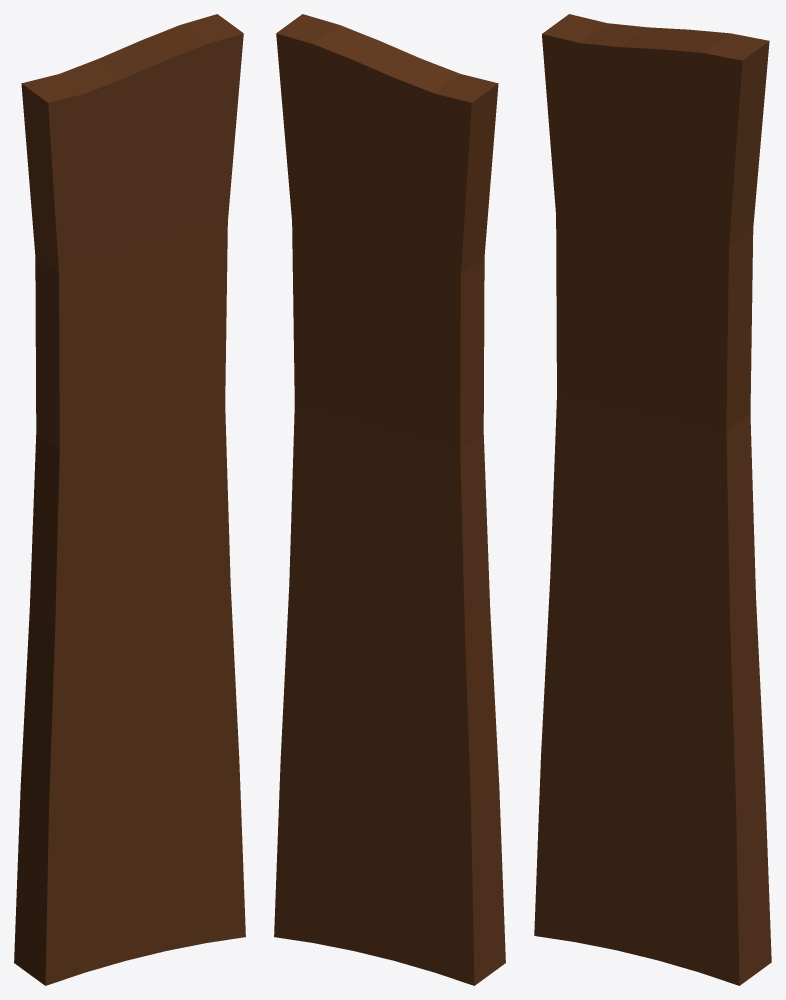
File: Plank2.fbx
3 renders of one model, left to right at view 1: azimuth 30°, elevation 25°; view 2: azimuth 150°, elevation 25°; view 3: azimuth 330°, elevation 25°, orthographic. The views are drawn at different scales.
Visible parts, largest first — view 1: Box014; view 2: Box014; view 3: Box014.
Boxes of the visible parts, box(x1,y1,x2,y2) form: Box014: box(14, 14, 245, 985); Box014: box(274, 14, 505, 985); Box014: box(534, 14, 771, 985).
Size of the model in its own units: 5.96 by 1.61 by 25.58.
